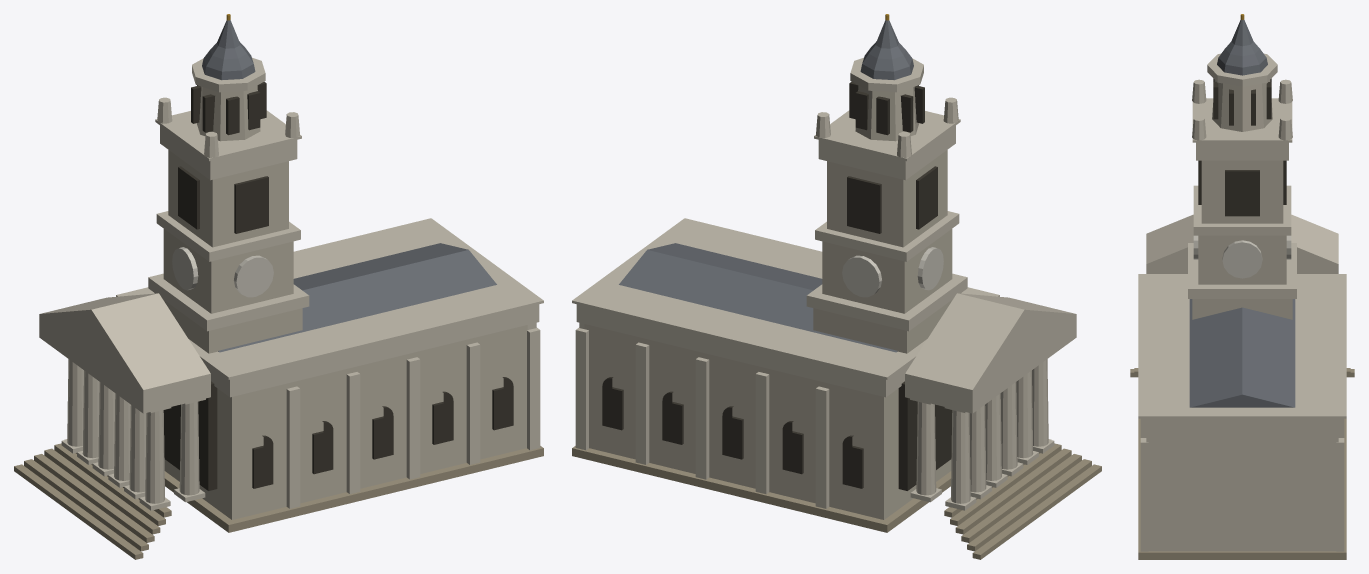
The model's file is st_martin_in_the_fields.glb.
3 views of the same model, side by side, from view 1: azimuth 30°, elevation 25°; view 2: azimuth 150°, elevation 25°; view 3: azimuth 270°, elevation 25° (orthographic). The views are drawn at different scales.
Visible parts, largest first — view 1: st_martin_in_the_fields; view 2: st_martin_in_the_fields; view 3: st_martin_in_the_fields.
Boxes of the visible parts, x1=… form: st_martin_in_the_fields: x1=14, y1=14, x2=543, y2=559; st_martin_in_the_fields: x1=572, y1=14, x2=1101, y2=559; st_martin_in_the_fields: x1=1130, y1=14, x2=1354, y2=559.
Bounding box in the file's own units: 55.02 × 59 × 28.
